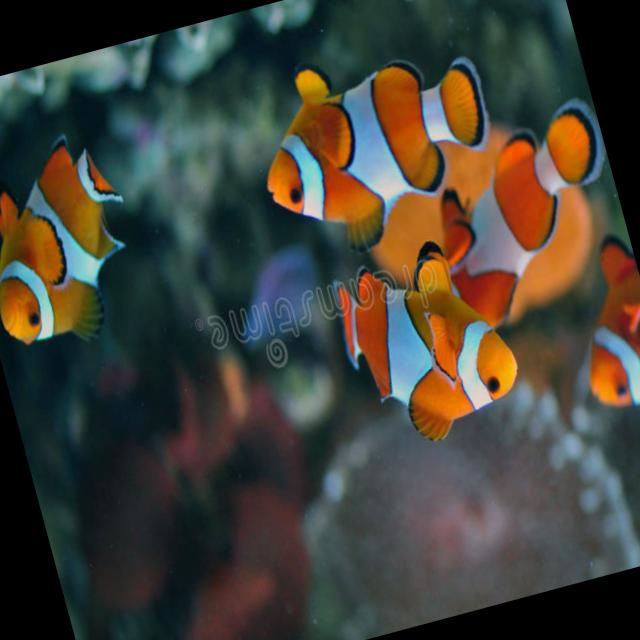ClownFish: (238, 28, 505, 266), (417, 100, 638, 330), (329, 242, 532, 458), (0, 124, 155, 363), (554, 231, 640, 419)
